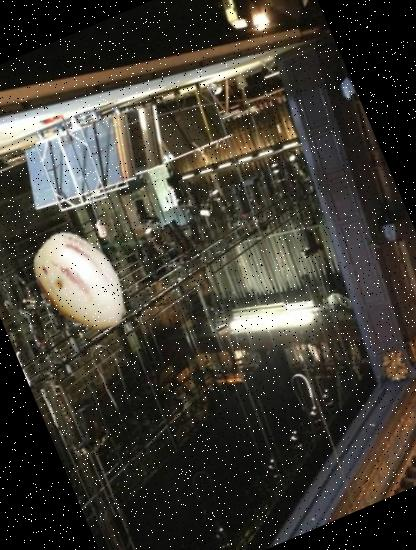Pepino: (4, 210, 152, 358)
